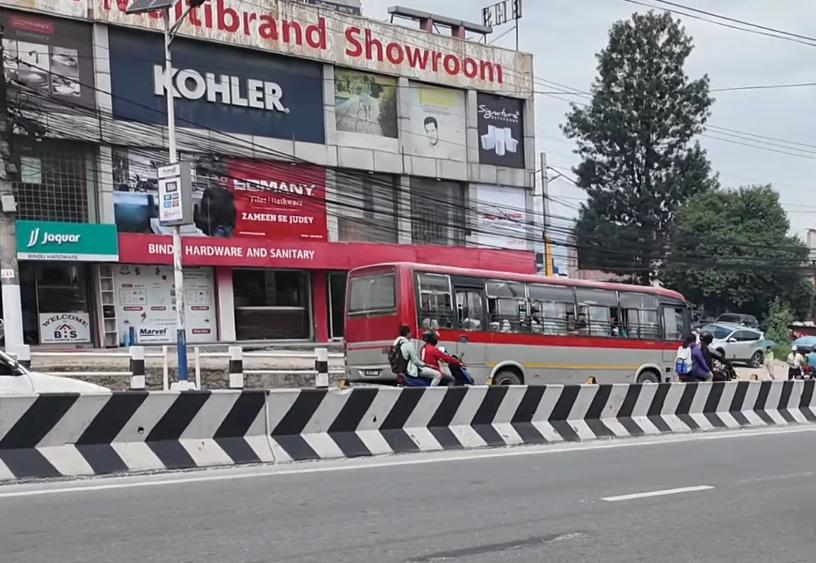bus: (339, 257, 696, 397)
car: (698, 319, 766, 369)
